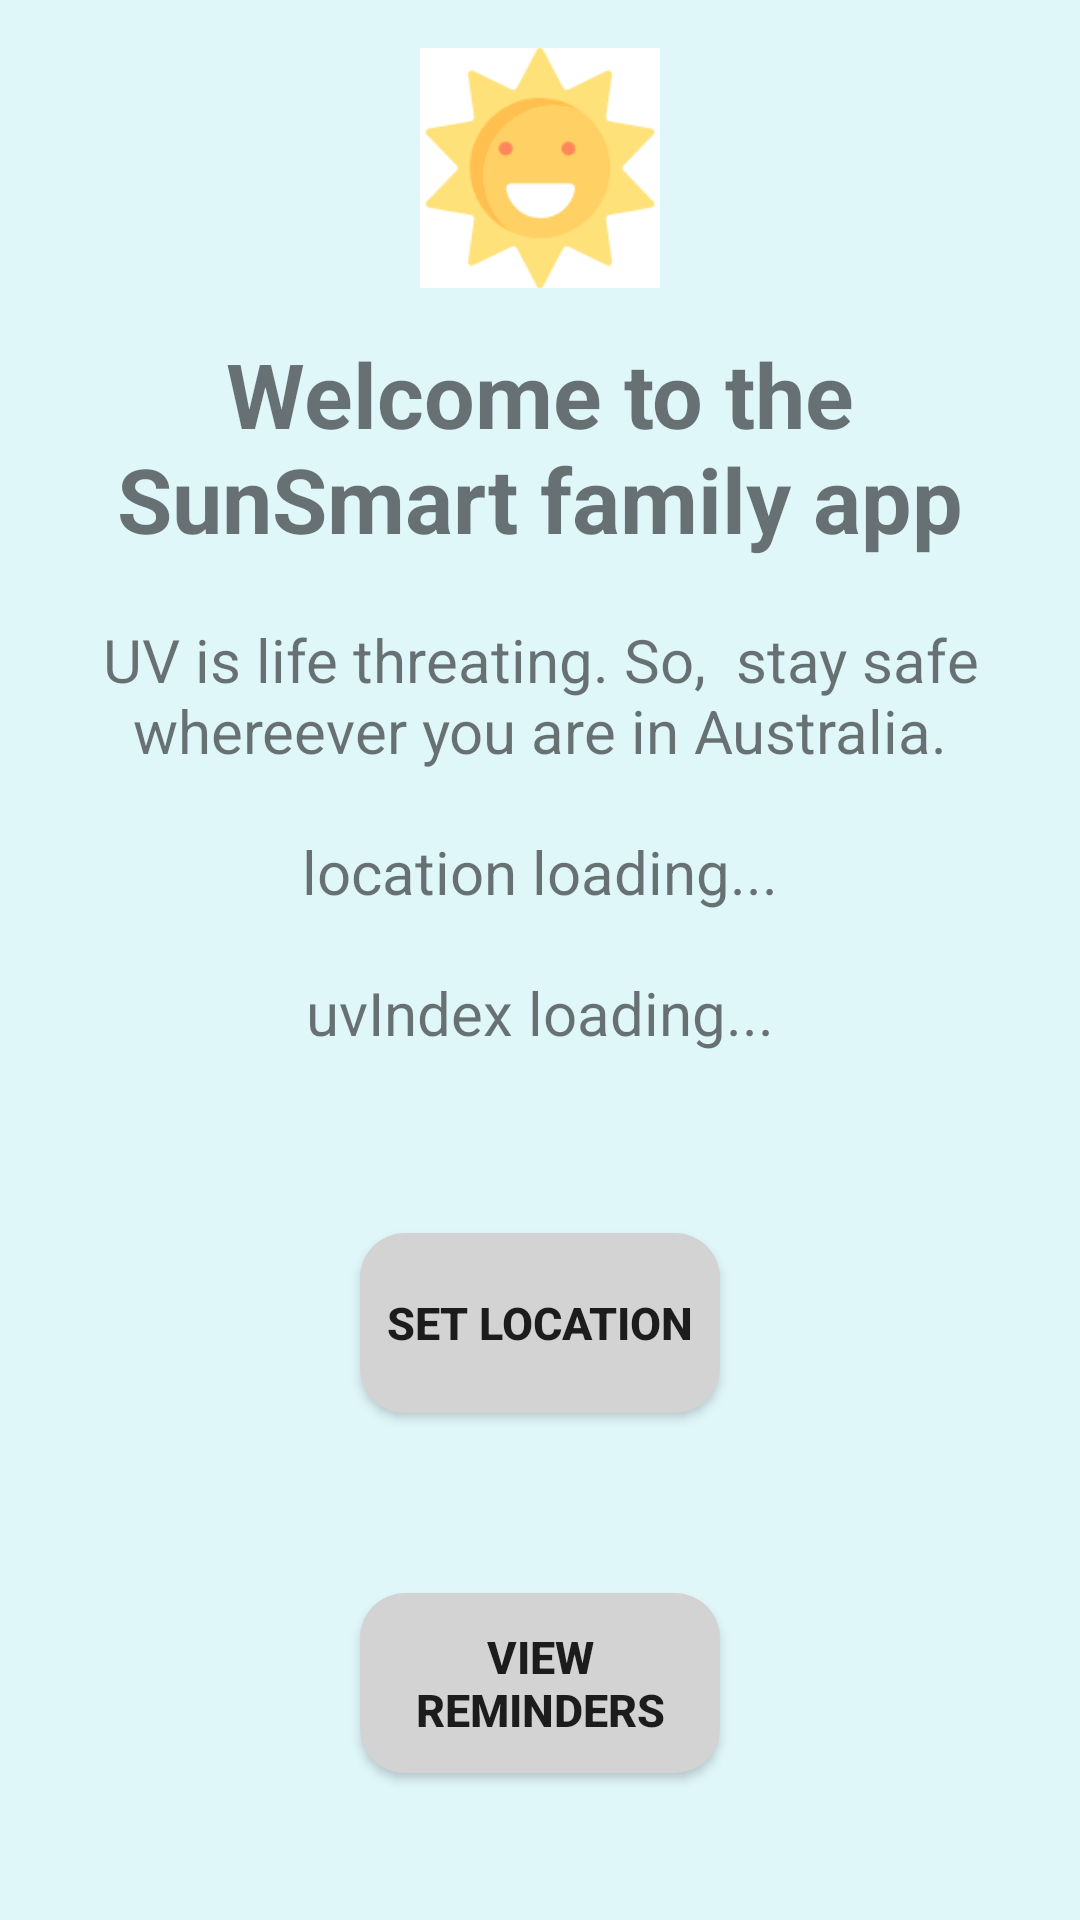

Screen size 1080×1920. Icon name, then its center in pixels as (x,y):
sun: (540,168)
